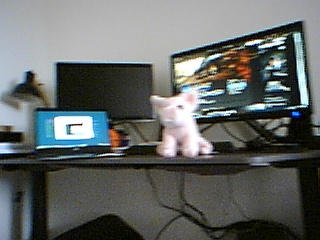piggy: (148, 88, 214, 158)
